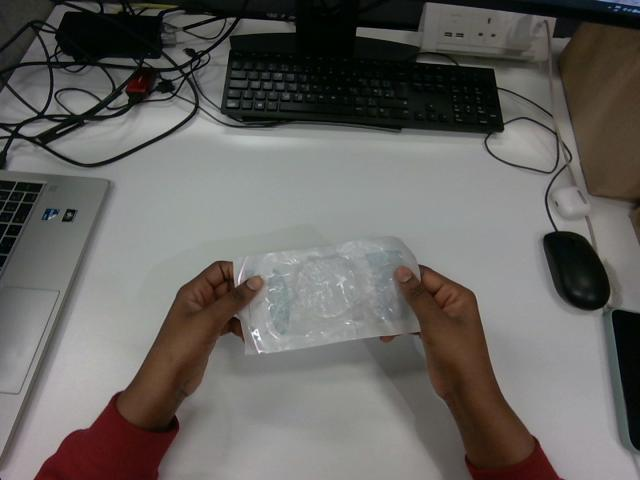gallipot: (234, 237, 418, 352)
